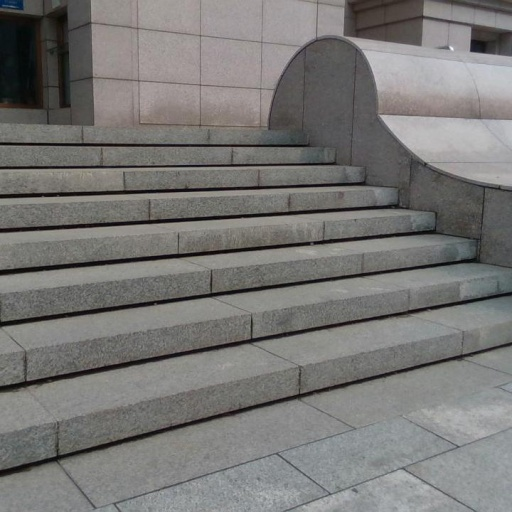Stairs: (0, 125, 512, 469)
